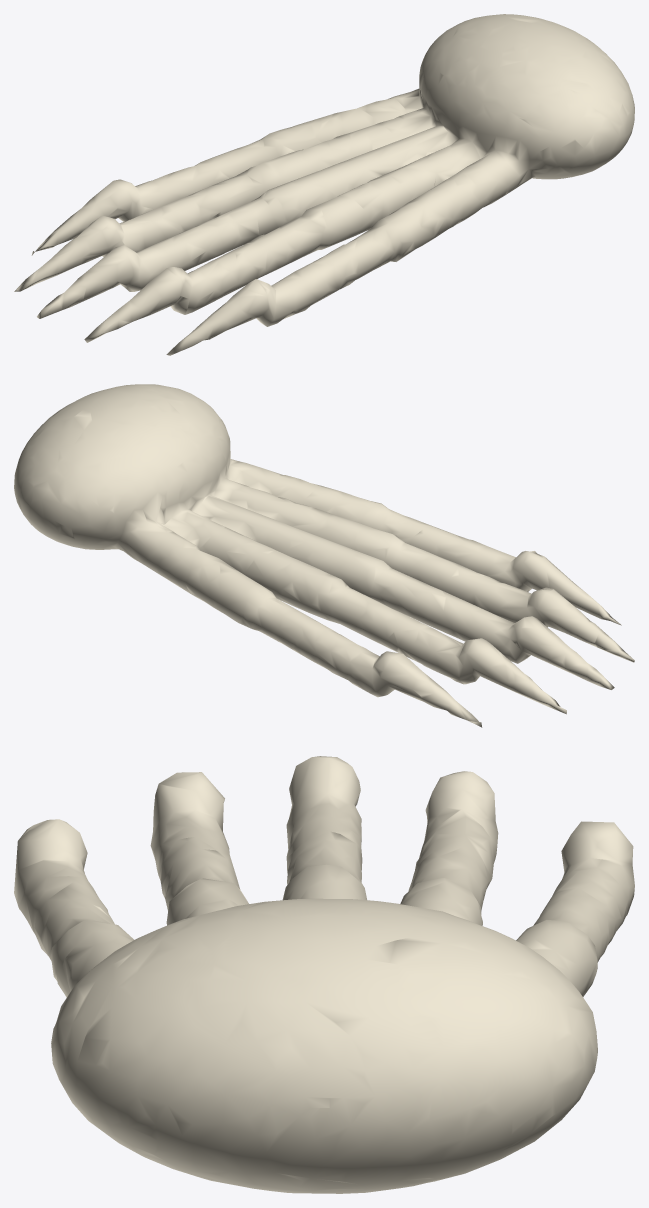
Rendered from forepaw_l.glb.
3 renders of one model, top to bottom at view 1: azimuth 30°, elevation 25°; view 2: azimuth 150°, elevation 25°; view 3: azimuth 270°, elevation 25°, orthographic. The views are drawn at different scales.
Visible parts, largest first — view 1: geometry_0; view 2: geometry_0; view 3: geometry_0.
Part boxes in pixels (x1=…): geometry_0: x1=14, y1=14, x2=634, y2=355; geometry_0: x1=14, y1=384, x2=634, y2=727; geometry_0: x1=14, y1=756, x2=634, y2=1193.
Bounding box in the file's own units: 0.4812 × 0.1347 × 0.2274.
